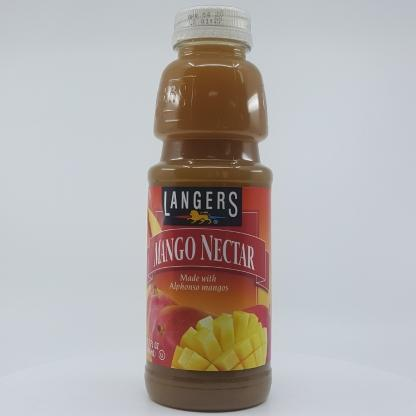-----449ML: (144, 5, 273, 412)
